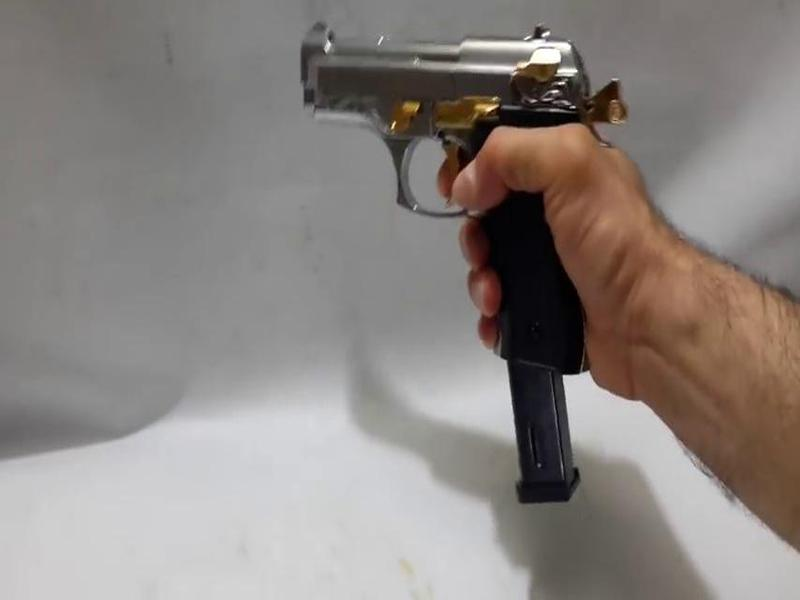Pistola: (251, 13, 631, 383)
